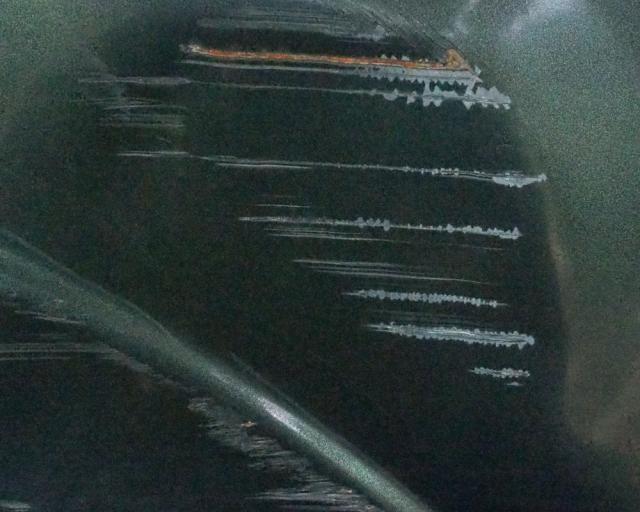scratch: (80, 0, 563, 396), (0, 266, 385, 512)
